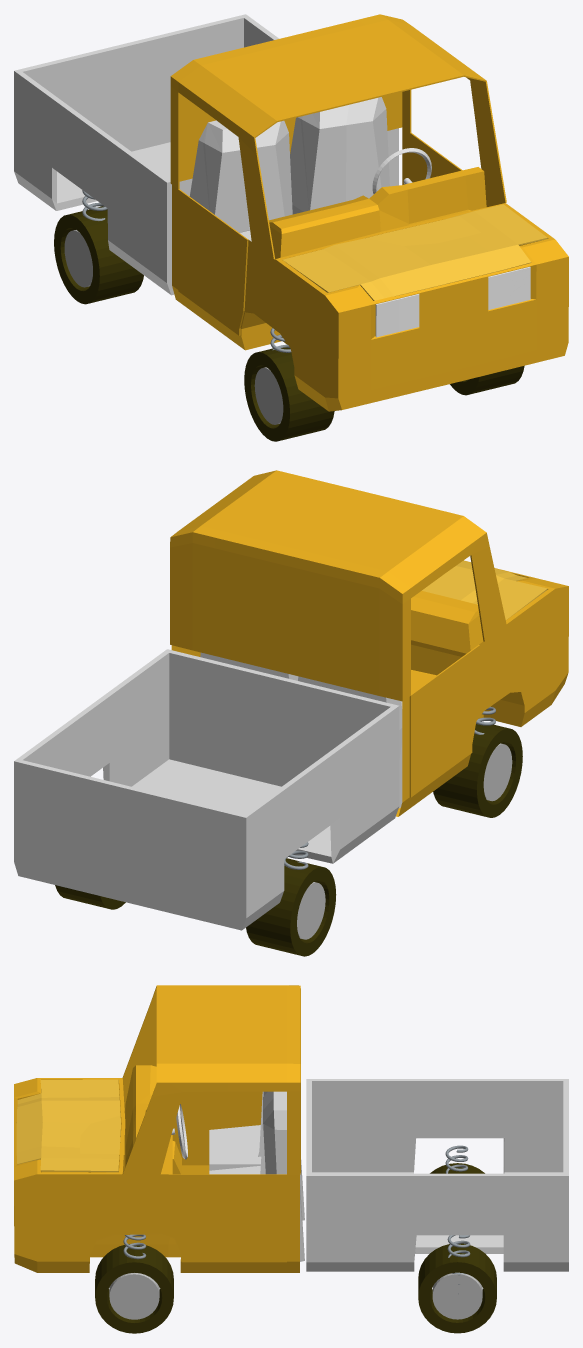
Rendered from mitten_pickup.glb.
3 renders of one model, top to bottom at view 1: azimuth 30°, elevation 25°; view 2: azimuth 150°, elevation 25°; view 3: azimuth 270°, elevation 25°, orthographic. The views are drawn at different scales.
Visible parts, largest first — view 1: truck, truck_bed, roof, hood, car_seat, car_seat.passenger_seat, door_right, front-left-WHEEL.002, front-left-WHEEL.003, headlights, door_left, wheel wells (+2 smaller); view 2: truck_bed, roof, truck, door_right, front-left-WHEEL.002, front-left-WHEEL.003, hood, wheel wells, car_seat.passenger_seat, front-left-WHEEL.001; view 3: truck_bed, roof, truck, door_left, hood, front-left-WHEEL, front-left-WHEEL.001, door_right, car_seat, car_seat.passenger_seat, wheel wells.
Boxes of the visible parts, left/top/right/bottom form: truck: left=172, top=127, right=568, bottom=411; truck_bed: left=14, top=14, right=398, bottom=295; roof: left=170, top=14, right=506, bottom=259; hood: left=282, top=204, right=547, bottom=300; car_seat: left=290, top=97, right=389, bottom=214; car_seat.passenger_seat: left=189, top=120, right=292, bottom=241; door_right: left=178, top=189, right=248, bottom=335; front-left-WHEEL.002: left=54, top=206, right=143, bottom=304; front-left-WHEEL.003: left=244, top=347, right=334, bottom=441; headlights: left=375, top=266, right=530, bottom=337; door_left: left=410, top=132, right=462, bottom=182; wheel wells: left=240, top=311, right=298, bottom=389; truck_bed: left=14, top=649, right=399, bottom=930; roof: left=170, top=470, right=506, bottom=701; truck: left=171, top=560, right=568, bottom=816; door_right: left=409, top=645, right=479, bottom=797; front-left-WHEEL.002: left=246, top=858, right=336, bottom=956; front-left-WHEEL.003: left=433, top=724, right=522, bottom=817; hood: left=422, top=560, right=547, bottom=620; wheel wells: left=467, top=690, right=525, bottom=766; car_seat.passenger_seat: left=298, top=676, right=402, bottom=808; front-left-WHEEL.001: left=55, top=885, right=125, bottom=909; truck_bed: left=306, top=1079, right=568, bottom=1271; roof: left=122, top=985, right=300, bottom=1174; truck: left=14, top=1065, right=299, bottom=1272; door_left: left=168, top=1174, right=286, bottom=1262; hood: left=16, top=1079, right=120, bottom=1172; front-left-WHEEL: left=95, top=1244, right=173, bottom=1333; front-left-WHEEL.001: left=418, top=1243, right=496, bottom=1333; door_right: left=173, top=1091, right=262, bottom=1165; car_seat: left=209, top=1091, right=304, bottom=1261; car_seat.passenger_seat: left=209, top=1091, right=304, bottom=1220; wheel wells: left=88, top=1137, right=181, bottom=1272.
Size of the model in its own units: 1.79 by 2.18 by 4.23.
